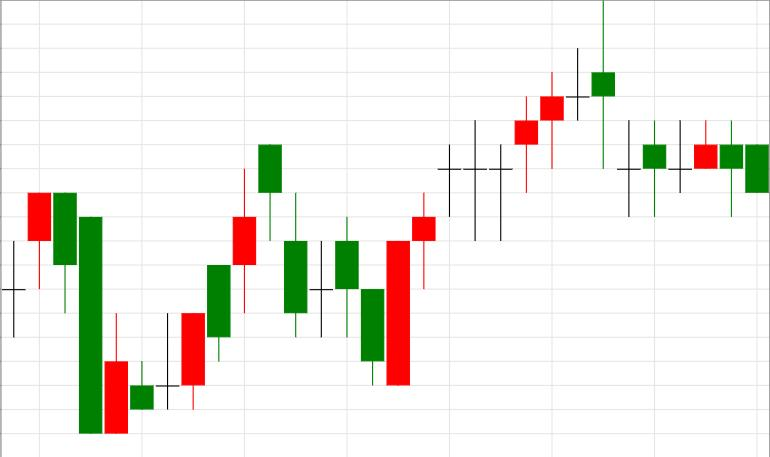bullish_engulfing_rise: (258, 145, 409, 385)
hanging_man_fall: (105, 145, 281, 433)
